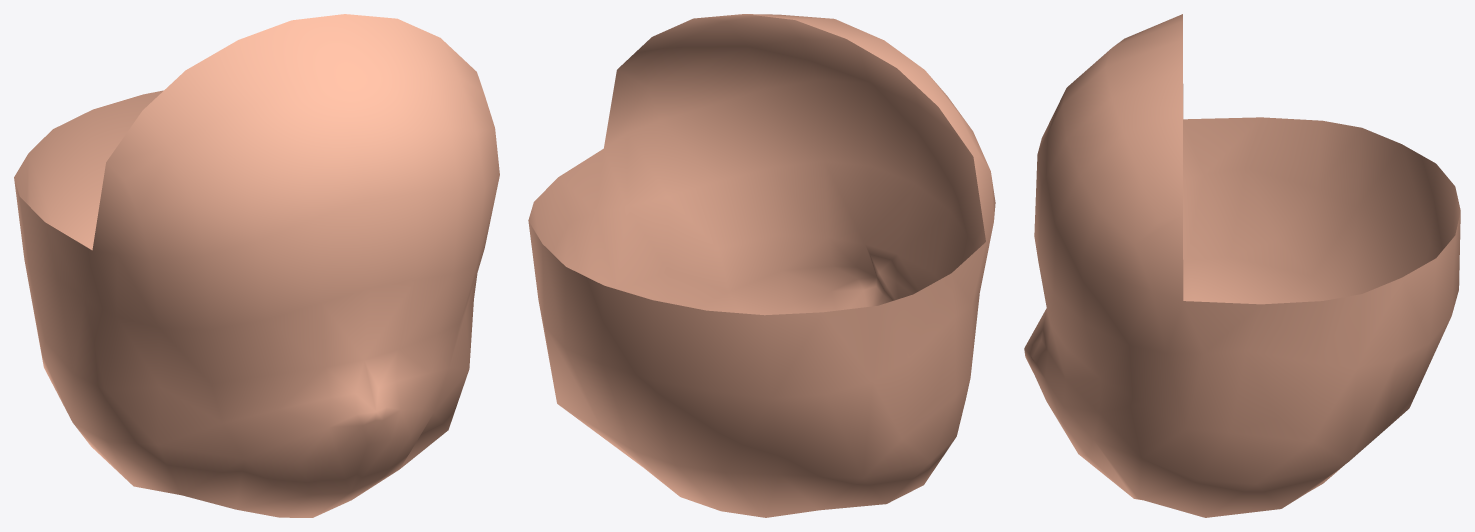
3 renders of one model, left to right at view 1: azimuth 30°, elevation 25°; view 2: azimuth 150°, elevation 25°; view 3: azimuth 270°, elevation 25°, orthographic. The views are drawn at different scales.
Visible parts, largest first — view 1: AF_M_Face_09; view 2: AF_M_Face_09; view 3: AF_M_Face_09.
Part boxes in pixels (left/top/right/bottom): AF_M_Face_09: left=14, top=14, right=499, bottom=517; AF_M_Face_09: left=528, top=14, right=995, bottom=517; AF_M_Face_09: left=1024, top=14, right=1460, bottom=517.
Bounding box in the file's own units: 670 × 755 × 661.
1 material, 1 textured.
